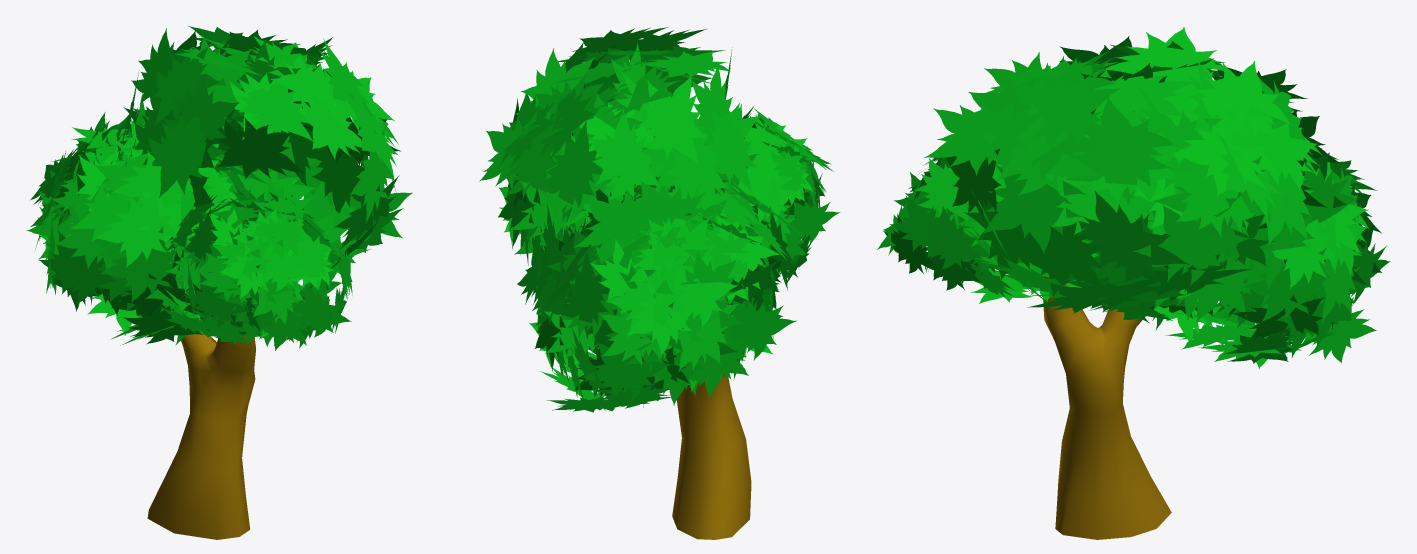
File: tree_02.fbx
3 renders of one model, left to right at view 1: azimuth 30°, elevation 25°; view 2: azimuth 150°, elevation 25°; view 3: azimuth 270°, elevation 25°, orthographic. The views are drawn at different scales.
Visible parts, largest first — view 1: tree_02_REN; view 2: tree_02_REN; view 3: tree_02_REN.
Part boxes in pixels (bbox=[...]): tree_02_REN: bbox=[26, 26, 412, 539]; tree_02_REN: bbox=[479, 27, 840, 539]; tree_02_REN: bbox=[877, 27, 1390, 539].
Size of the model in its own units: 862 by 1246 by 1120.
